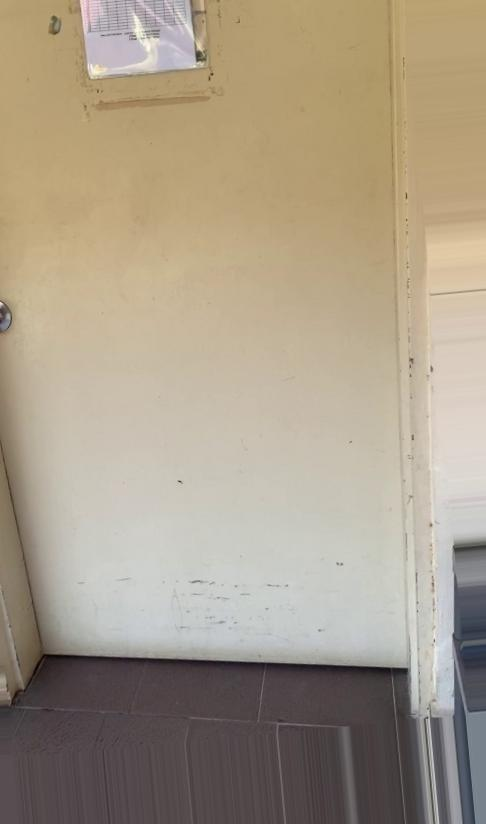door: (0, 0, 412, 692)
